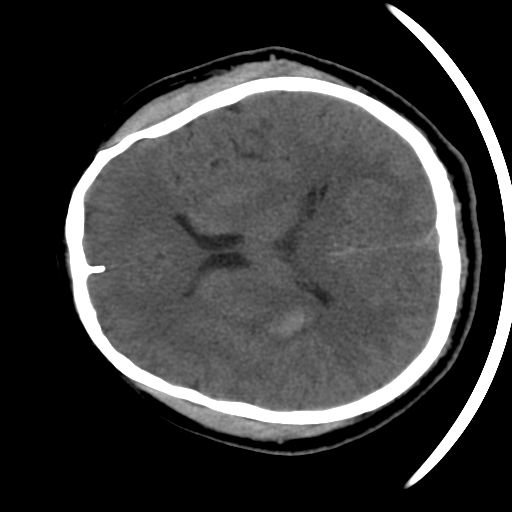a: (242, 281, 333, 360)
